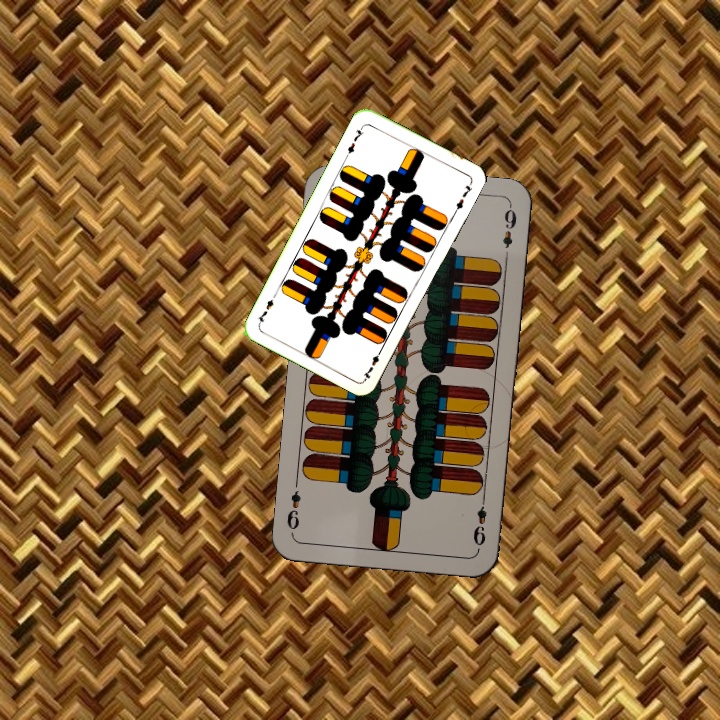E7: (359, 344, 385, 382), (342, 121, 367, 159)
E9: (469, 492, 489, 548)
